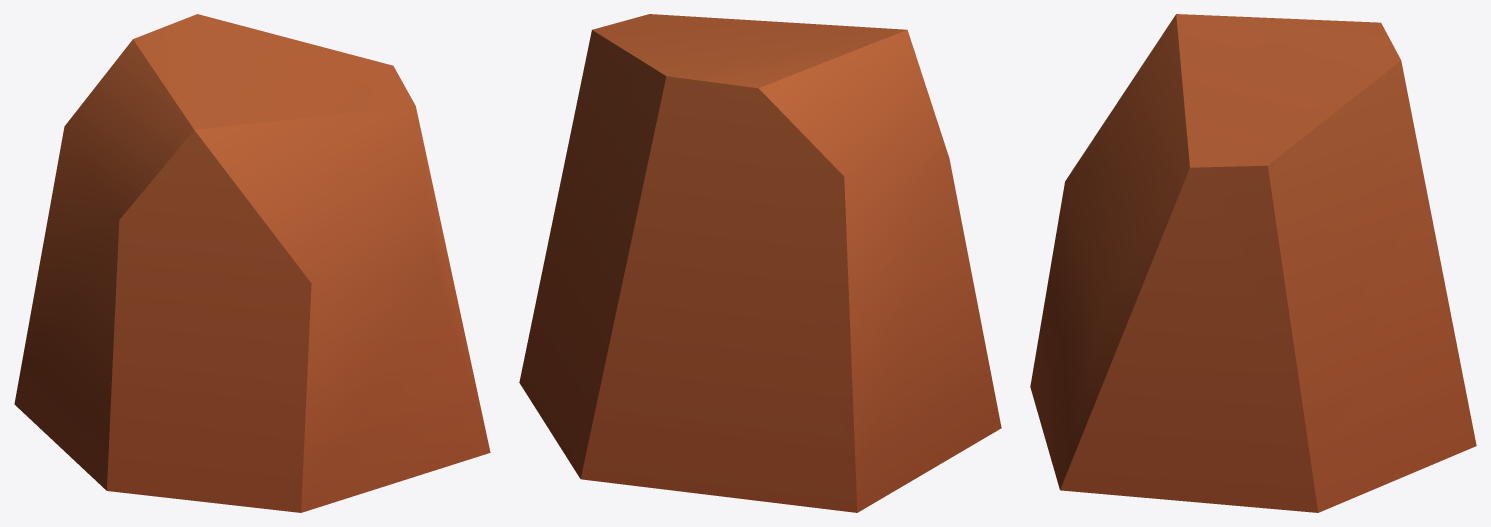
File: Desert Rock 01.FBX
3 renders of one model, left to right at view 1: azimuth 30°, elevation 25°; view 2: azimuth 150°, elevation 25°; view 3: azimuth 270°, elevation 25°, orthographic. The views are drawn at different scales.
Parts seen in each view (by area): view 1: Desert Rock 01; view 2: Desert Rock 01; view 3: Desert Rock 01.
Boxes of the visible parts, x1,y1,x2,y2 form: Desert Rock 01: [14, 14, 490, 512]; Desert Rock 01: [519, 14, 1001, 512]; Desert Rock 01: [1030, 14, 1476, 512].
Bounding box in the file's own units: 59.26 × 53.42 × 59.28.
Materials: 1 (1 with a texture image).
